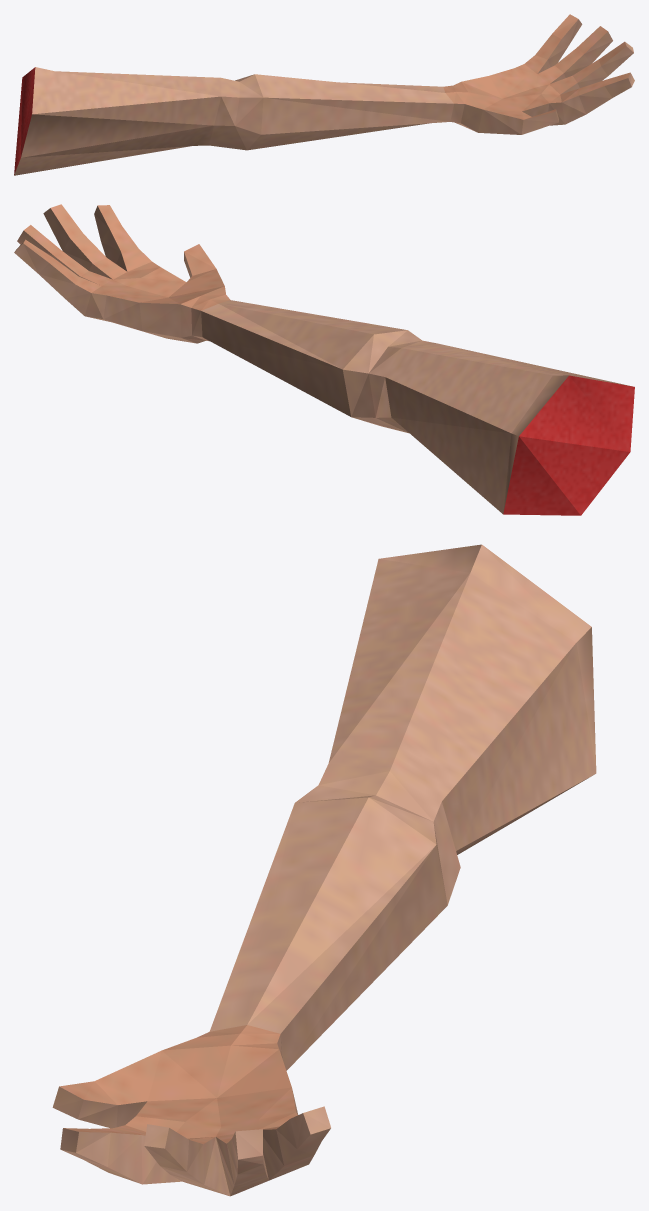
File: g_arm.fbx
3 views of the same model, one above another, from view 1: azimuth 30°, elevation 25°; view 2: azimuth 150°, elevation 25°; view 3: azimuth 270°, elevation 25° (orthographic). The views are drawn at different scales.
Visible parts, largest first — view 1: arm; view 2: arm; view 3: arm.
Boxes of the visible parts, box(x1,y1,x2,y2) form: arm: box(14, 14, 634, 175); arm: box(14, 204, 634, 515); arm: box(52, 544, 596, 1196).
Size of the model in its own units: 0.794 by 0.3393 by 0.1537.
Materials: 1 (1 with a texture image).
